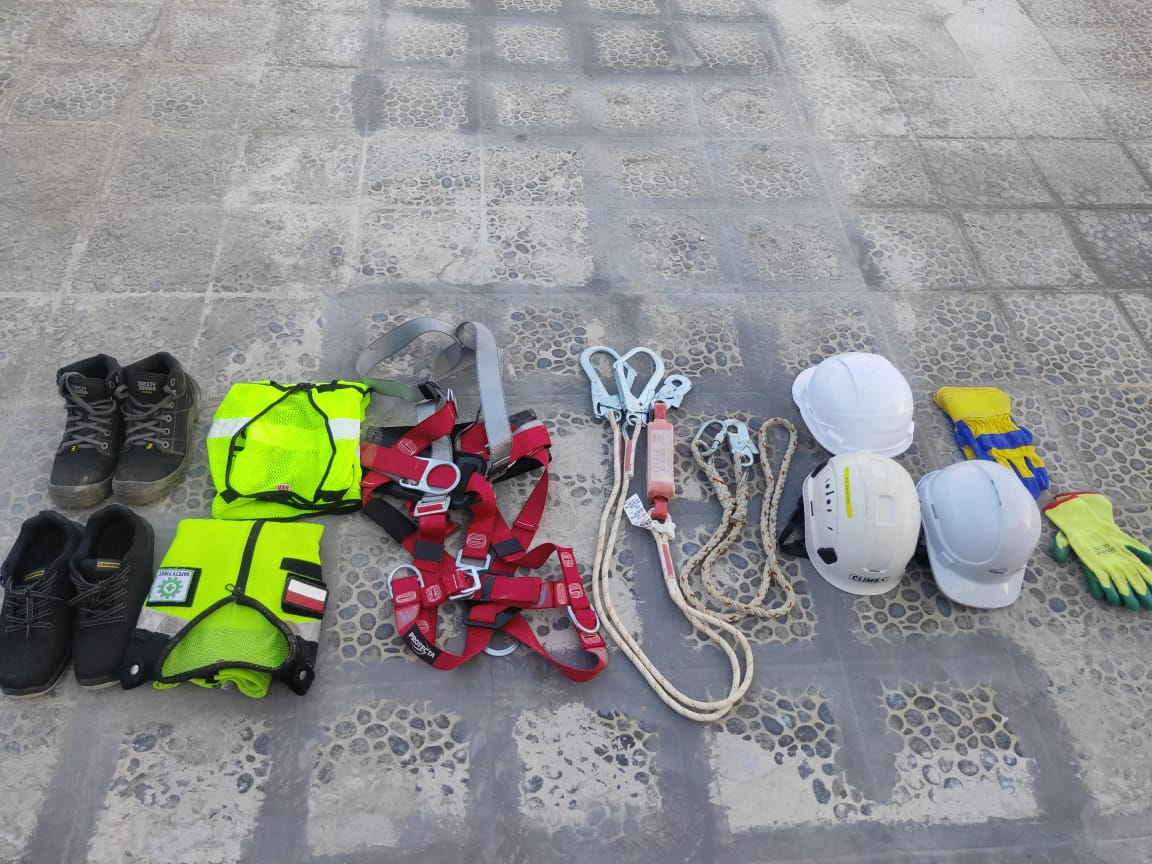ROMPI: (206, 380, 362, 514)
SARUNG_TANGAN: (1068, 488, 1152, 606)
SEPATU: (58, 351, 186, 506)
